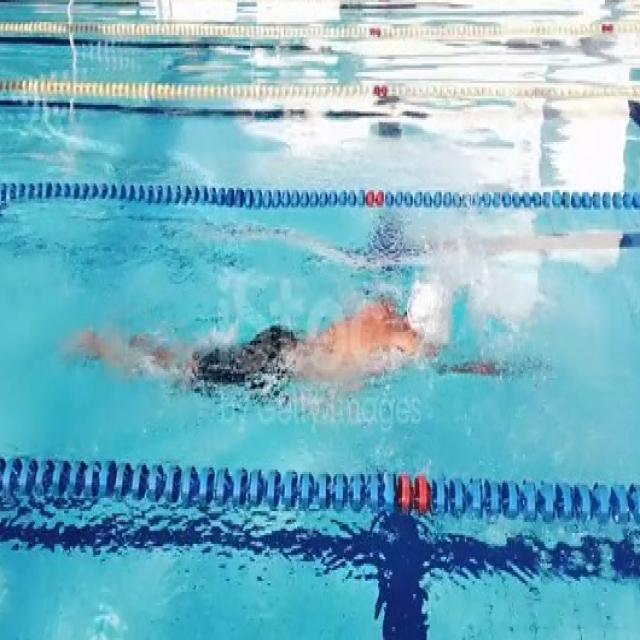Swimming: (62, 296, 534, 411)
